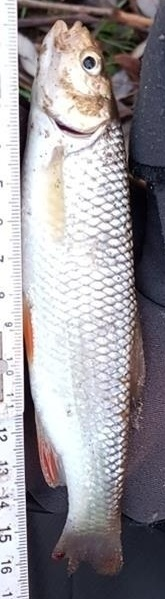Leuciscus cephalus: (20, 20, 145, 579)
